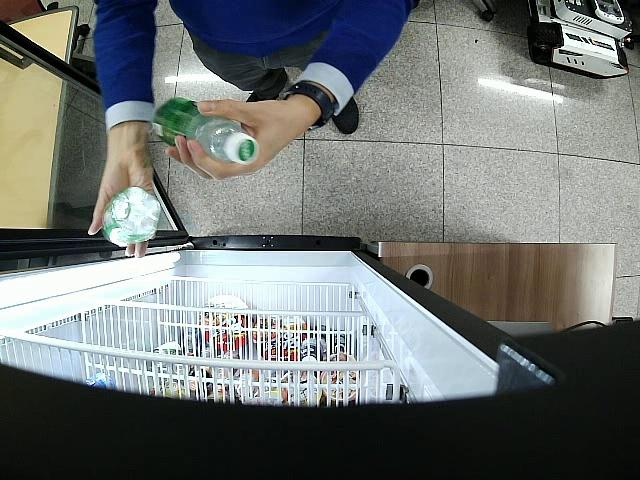00_hand: (164, 100, 312, 181), (89, 132, 153, 257)
18_trevi: (154, 97, 259, 165), (101, 187, 161, 246)
